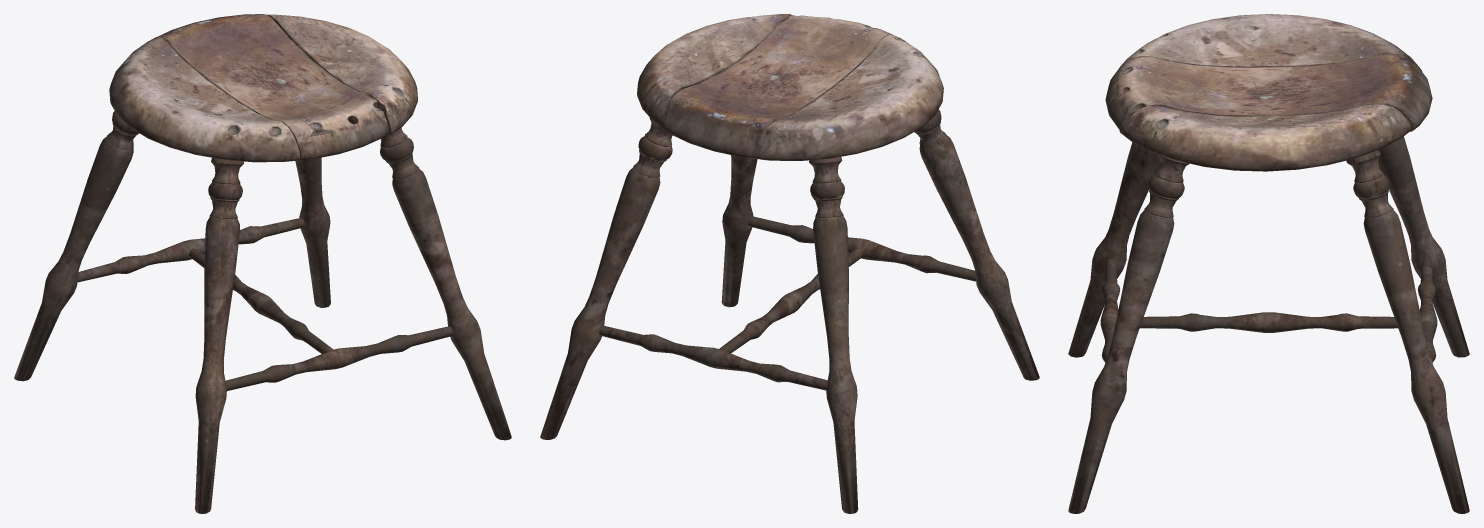
Rendered from wooden_stool_01.glb.
3 views of the same model, side by side, from view 1: azimuth 30°, elevation 25°; view 2: azimuth 150°, elevation 25°; view 3: azimuth 270°, elevation 25° (orthographic). The views are drawn at different scales.
Visible parts, largest first — view 1: wooden_stool_01; view 2: wooden_stool_01; view 3: wooden_stool_01.
Boxes of the visible parts, x1,y1,x2,y2 form: wooden_stool_01: (14, 14, 511, 513); wooden_stool_01: (540, 14, 1039, 513); wooden_stool_01: (1068, 14, 1469, 513).
Size of the model in its own units: 0.4246 by 0.4373 by 0.4418.
Materials: 1 (1 with a texture image).
